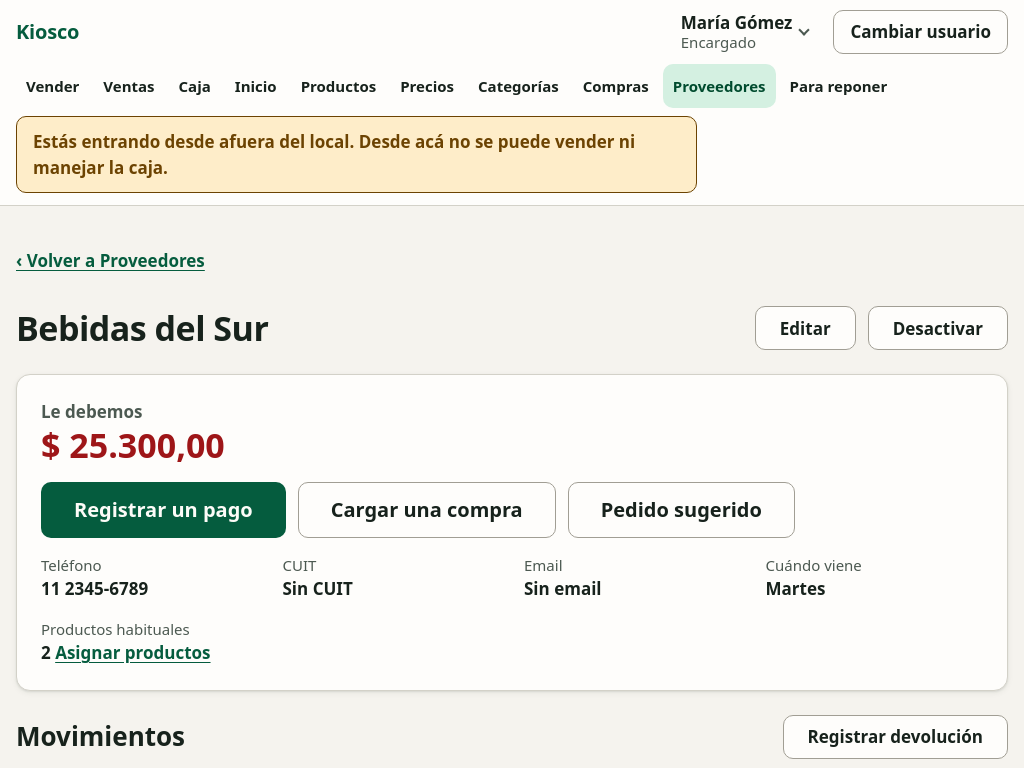
Test case: Cuenta corriente › el pago con efectivo de la caja queda deshabilitado en remoto
Click the button "Registrar un pago": (163, 510) [41,482,286,538]
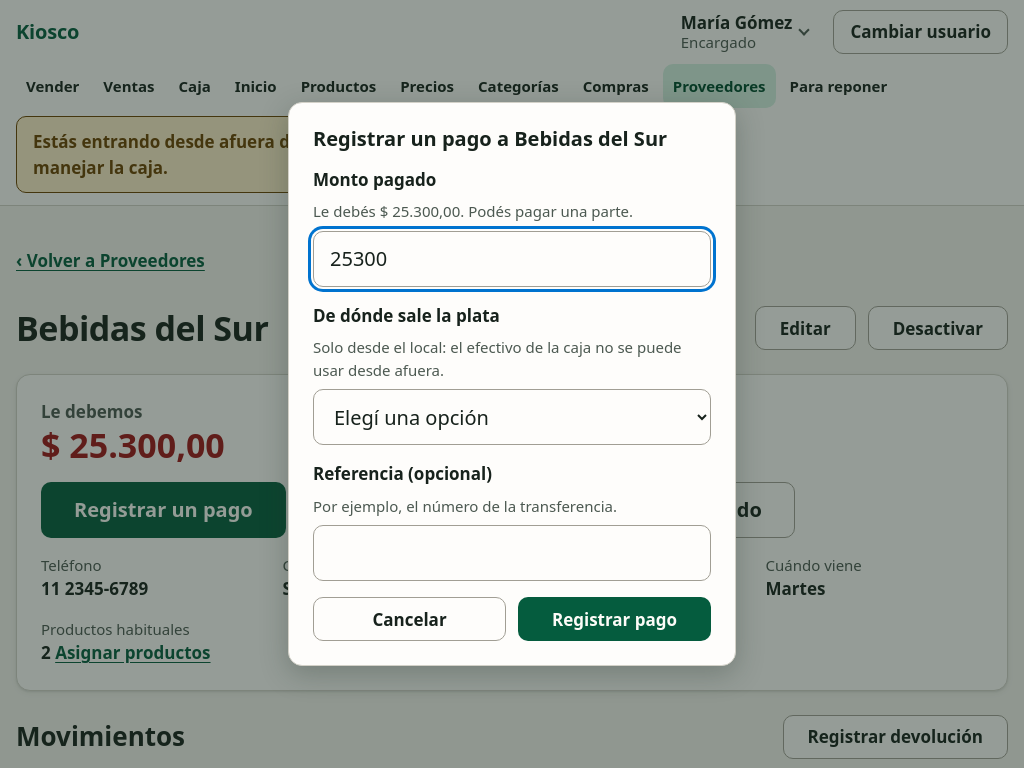
Now the text "Solo desde el local" is shown, box [313,337,682,380]
